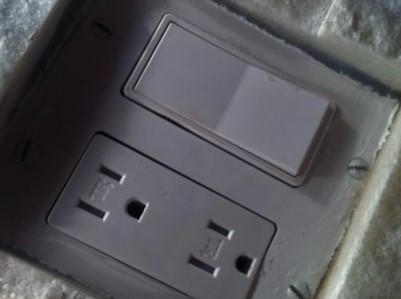outlet: (59, 158, 158, 229), (169, 215, 263, 280)
